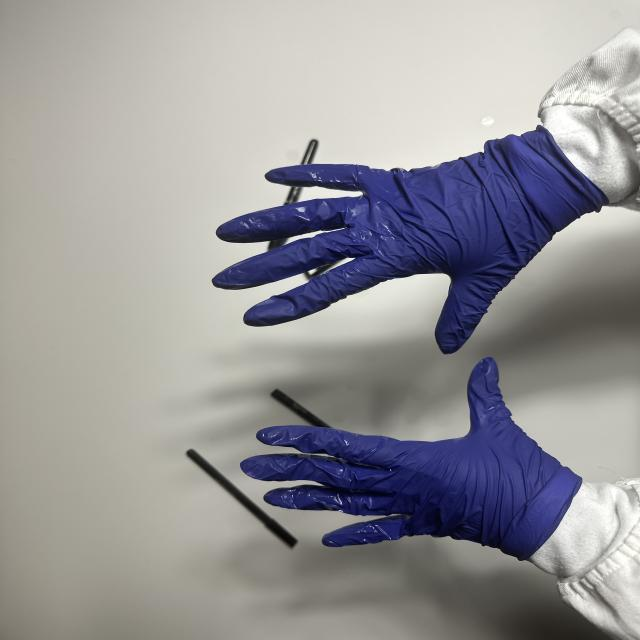gloves_contaminated: (213, 127, 606, 353), (241, 358, 582, 560)
